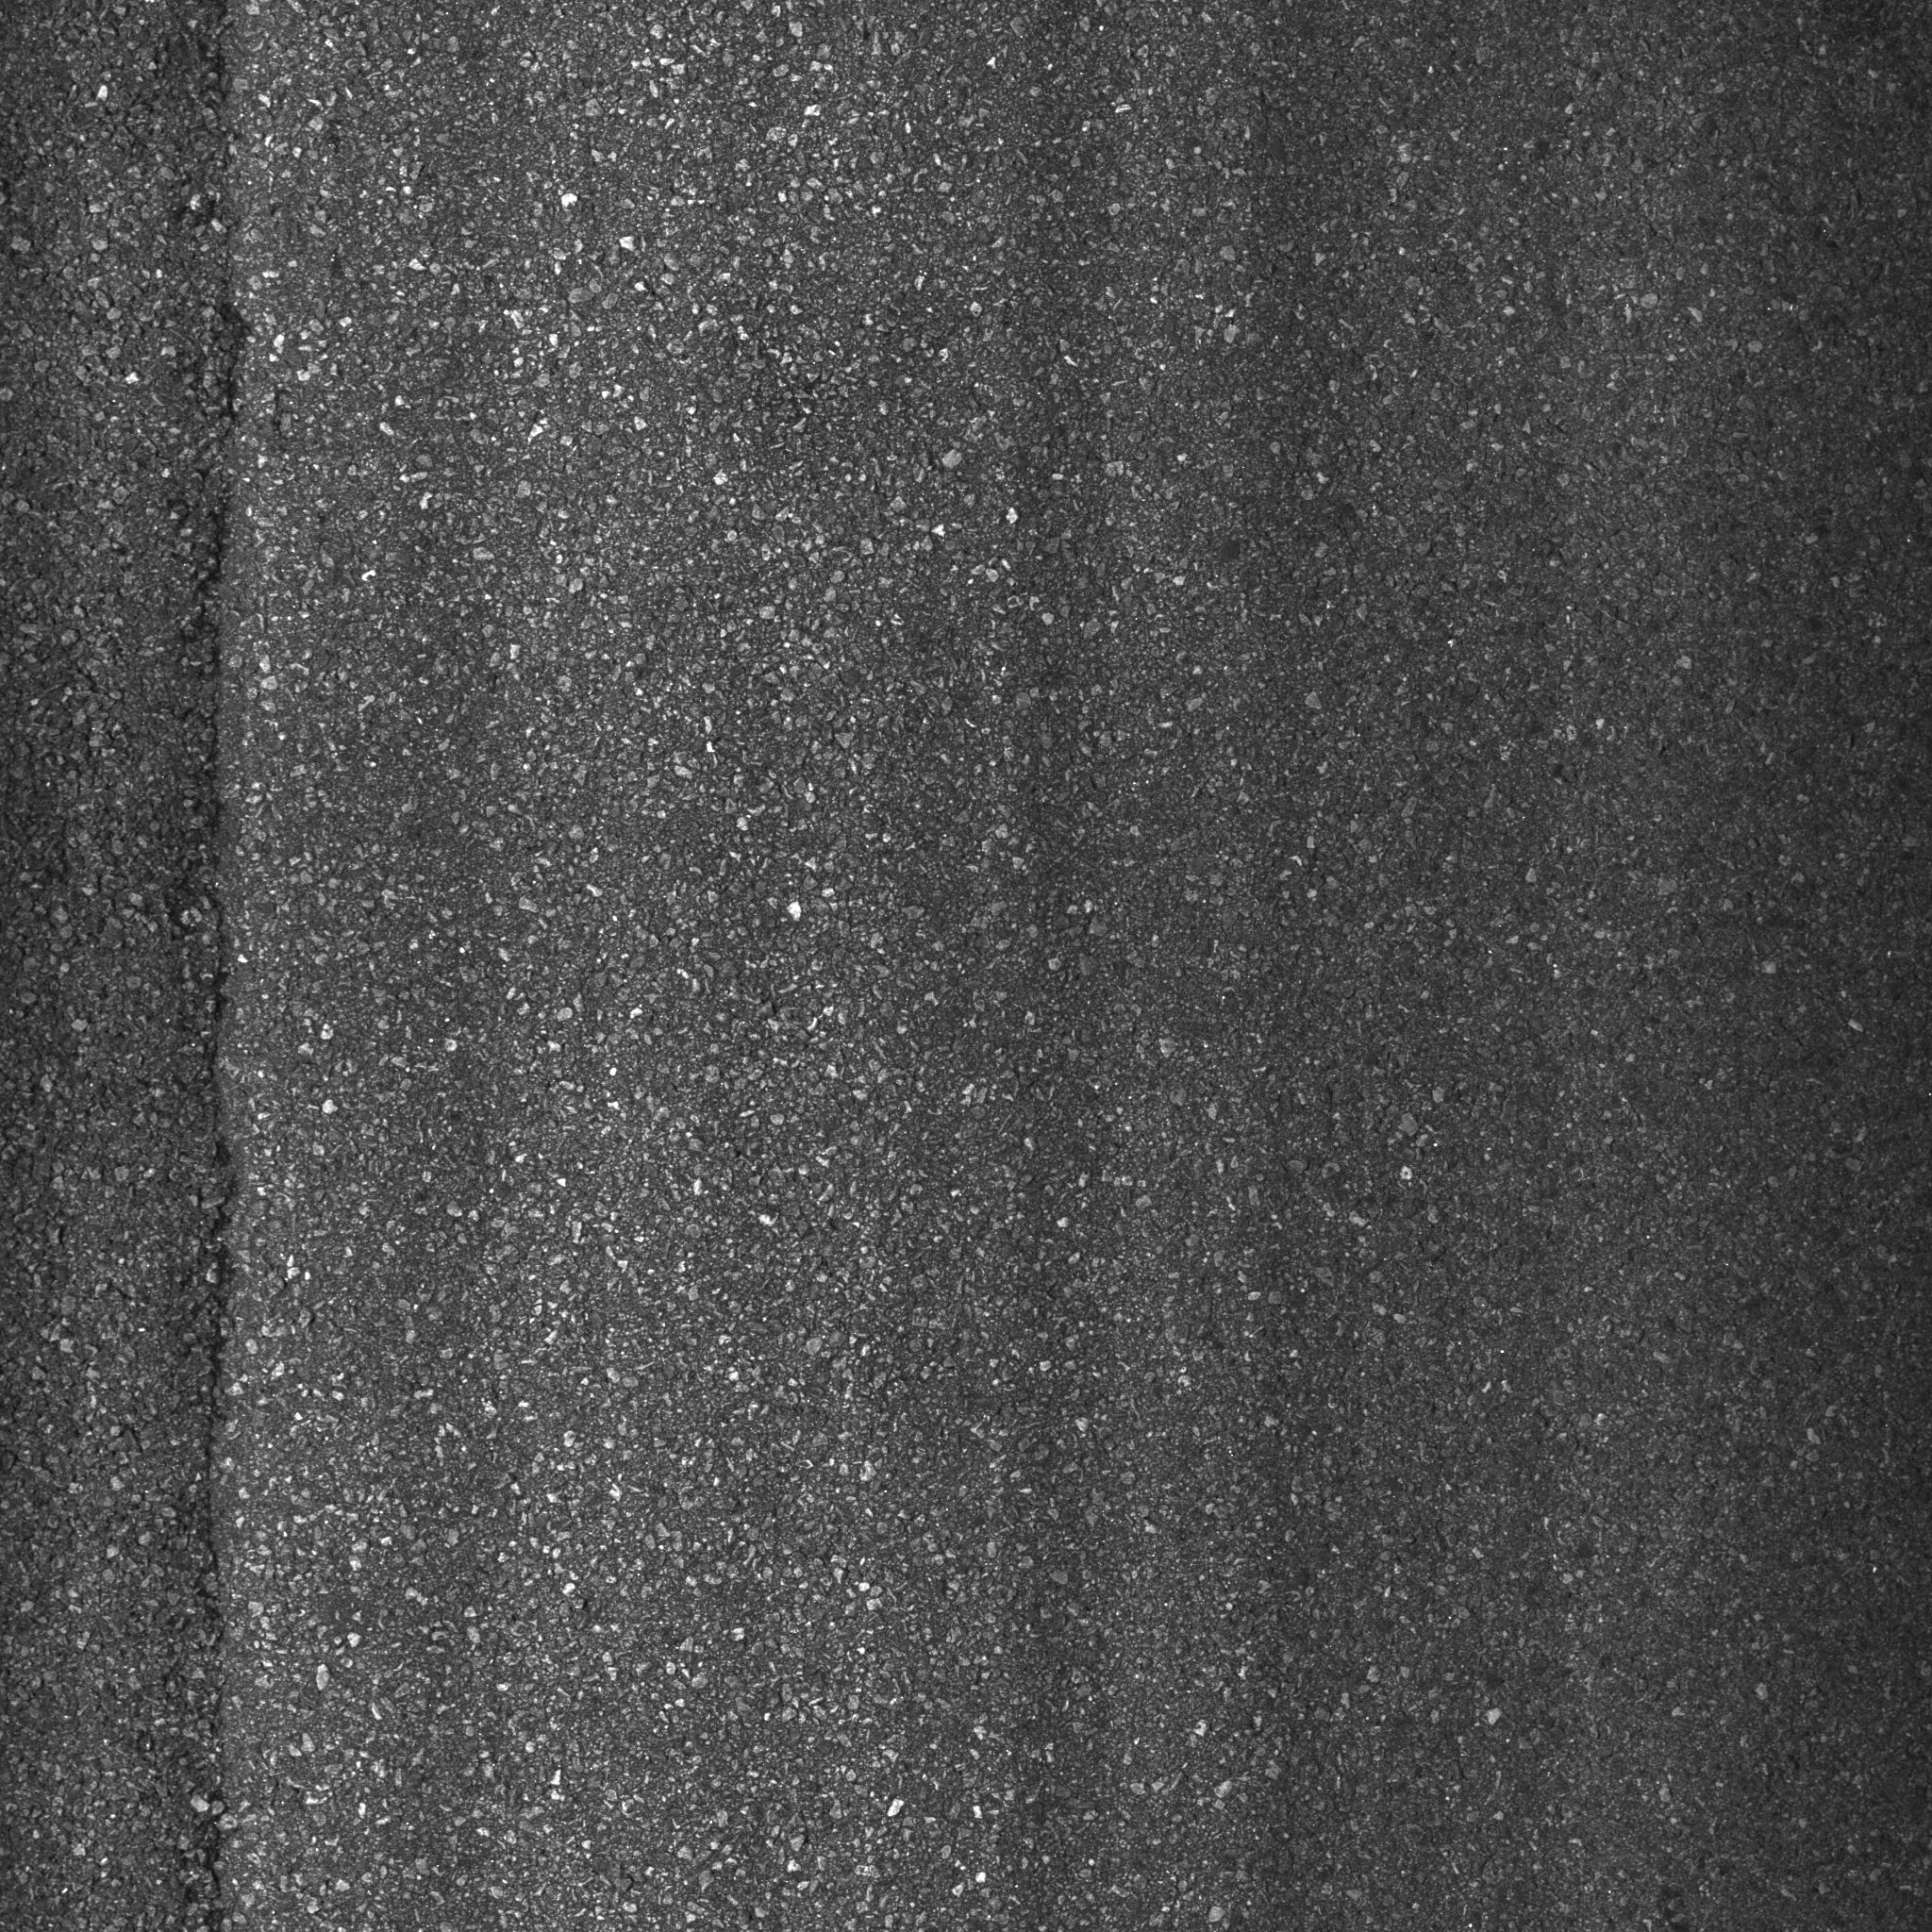longitudinal: (154, 2, 283, 1920)
